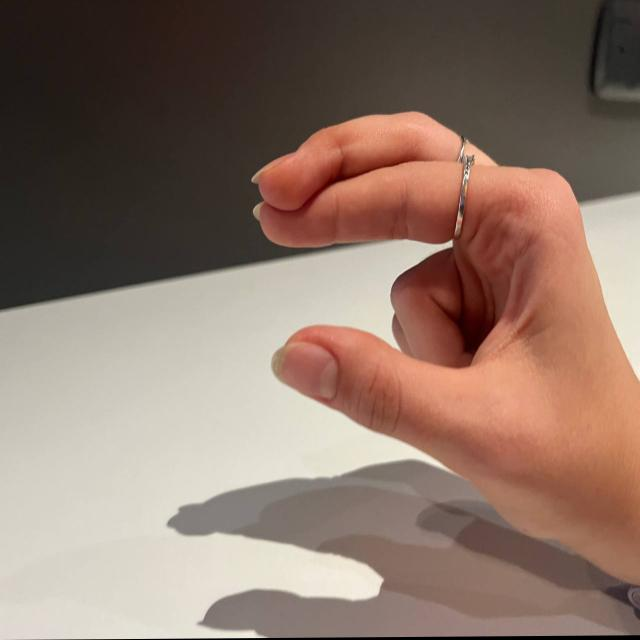ia: (239, 120, 619, 537)
